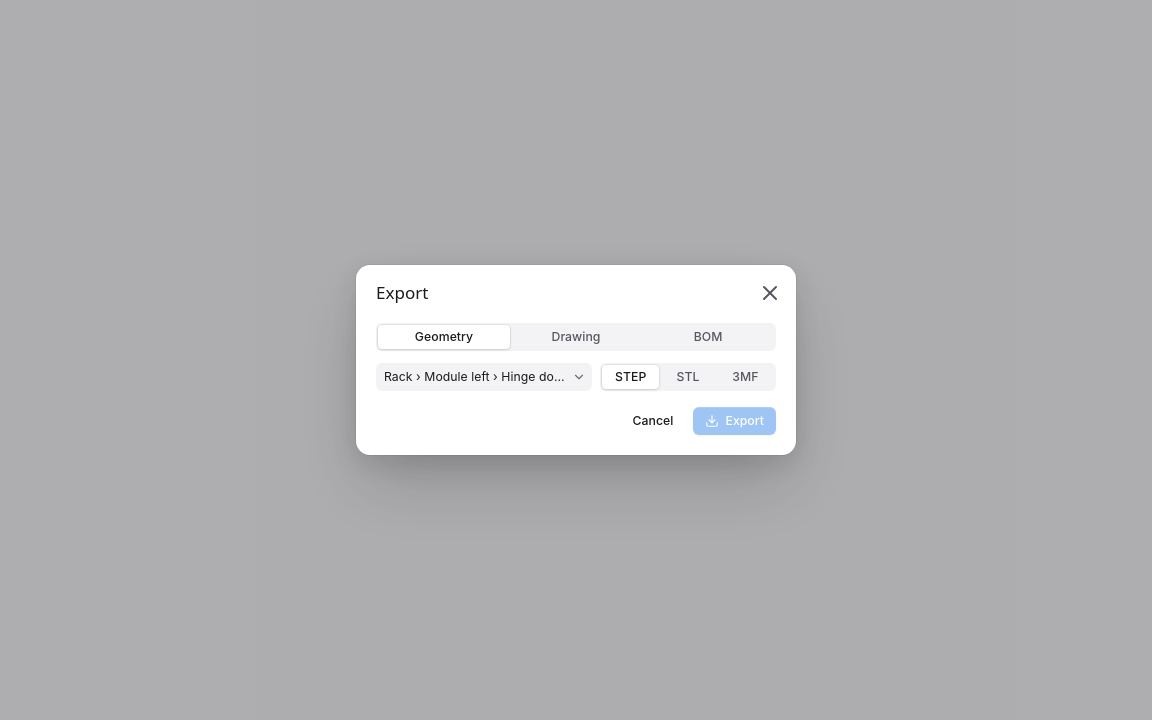
Scenario: keeps the selected subassembly export and BOM scopes when its parts also fill the studio
Expected: the button with aria-label "Parts to export" reads "Rack › Module left › Hinge door (2 parts)", x1=376 y1=363 x2=592 y2=391
Click the radio button "BOM" at coordinates (708, 337), box x1=642 y1=325 x2=774 y2=349
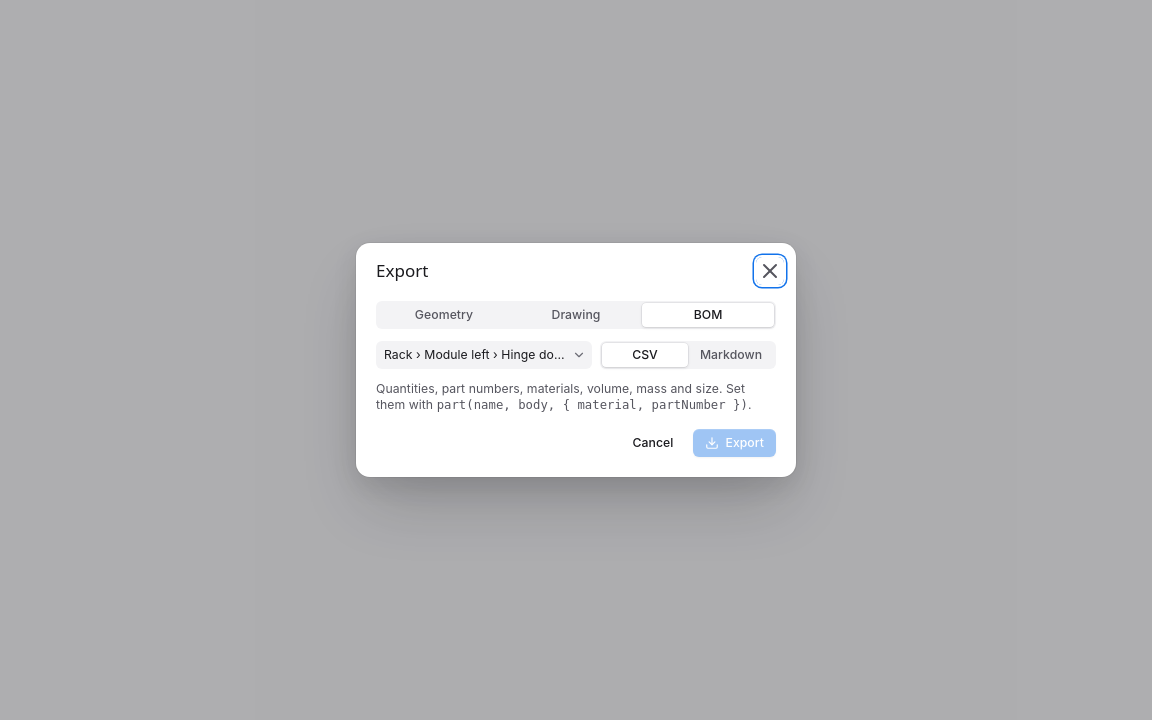
Expected: the button with aria-label "Bill of materials for" reads "Rack › Module left › Hinge door (subassembly)", x1=376 y1=341 x2=592 y2=369
